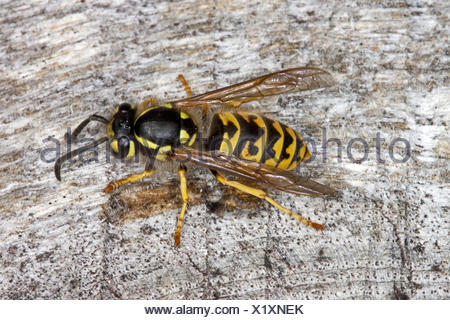chax: (52, 46, 367, 260)
